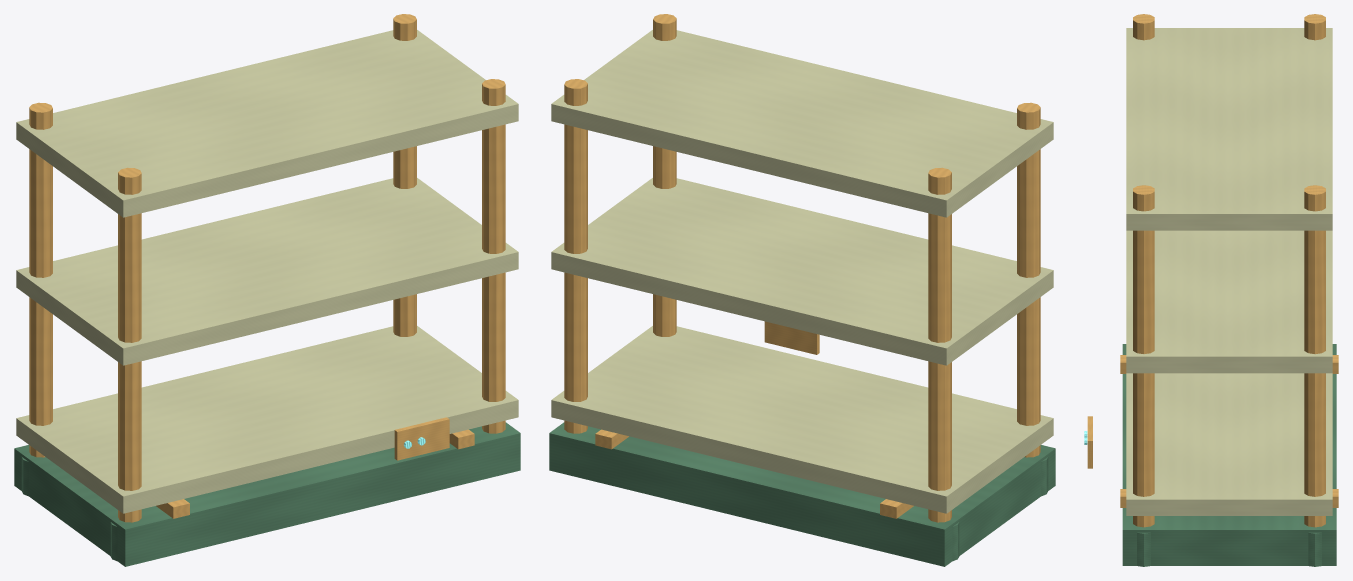
The model's file is atlas100-s003-a06.glb.
3 views of the same model, side by side, from view 1: azimuth 30°, elevation 25°; view 2: azimuth 150°, elevation 25°; view 3: azimuth 270°, elevation 25° (orthographic). The views are drawn at different scales.
Parts seen in each view (by area): view 1: atlas100-s003-a06:part-013, atlas100-s003-a06:part-012, atlas100-s003-a06:part-011, atlas100-s003-a06:part-000, atlas100-s003-a06:part-005, atlas100-s003-a06:part-009, atlas100-s003-a06:part-003, atlas100-s003-a06:part-007, atlas100-s003-a06:part-014; view 2: atlas100-s003-a06:part-013, atlas100-s003-a06:part-012, atlas100-s003-a06:part-011, atlas100-s003-a06:part-000, atlas100-s003-a06:part-003, atlas100-s003-a06:part-007, atlas100-s003-a06:part-005, atlas100-s003-a06:part-009, atlas100-s003-a06:part-014; view 3: atlas100-s003-a06:part-013, atlas100-s003-a06:part-012, atlas100-s003-a06:part-011, atlas100-s003-a06:part-000, atlas100-s003-a06:part-007, atlas100-s003-a06:part-009, atlas100-s003-a06:part-003, atlas100-s003-a06:part-005, atlas100-s003-a06:part-008, atlas100-s003-a06:part-010.
Boxes of the visible parts, x1,y1,x2,y2 form: atlas100-s003-a06:part-013: (16,30,518,217); atlas100-s003-a06:part-012: (16,178,518,365); atlas100-s003-a06:part-011: (16,326,518,513); atlas100-s003-a06:part-000: (14,422,520,566); atlas100-s003-a06:part-005: (118,167,141,522); atlas100-s003-a06:part-009: (482,79,505,433); atlas100-s003-a06:part-003: (29,102,52,457); atlas100-s003-a06:part-007: (393,14,416,336); atlas100-s003-a06:part-014: (394,417,449,460); atlas100-s003-a06:part-013: (551,30,1053,217); atlas100-s003-a06:part-012: (551,178,1053,365); atlas100-s003-a06:part-011: (551,326,1053,513); atlas100-s003-a06:part-000: (549,422,1055,566); atlas100-s003-a06:part-003: (928,167,951,522); atlas100-s003-a06:part-007: (564,79,587,433); atlas100-s003-a06:part-005: (1017,102,1040,457); atlas100-s003-a06:part-009: (653,14,676,336); atlas100-s003-a06:part-014: (764,321,819,354); atlas100-s003-a06:part-013: (1126,28,1332,230); atlas100-s003-a06:part-012: (1126,230,1332,373); atlas100-s003-a06:part-011: (1126,373,1332,515); atlas100-s003-a06:part-000: (1122,344,1336,565); atlas100-s003-a06:part-007: (1304,185,1325,527); atlas100-s003-a06:part-009: (1133,185,1154,527); atlas100-s003-a06:part-003: (1304,14,1325,40); atlas100-s003-a06:part-005: (1133,14,1154,40); atlas100-s003-a06:part-008: (1308,532,1321,566); atlas100-s003-a06:part-010: (1137,532,1150,566).
Size of the model in its own units: 2.91 by 2.66 by 1.66.
4 materials, 4 textured.
